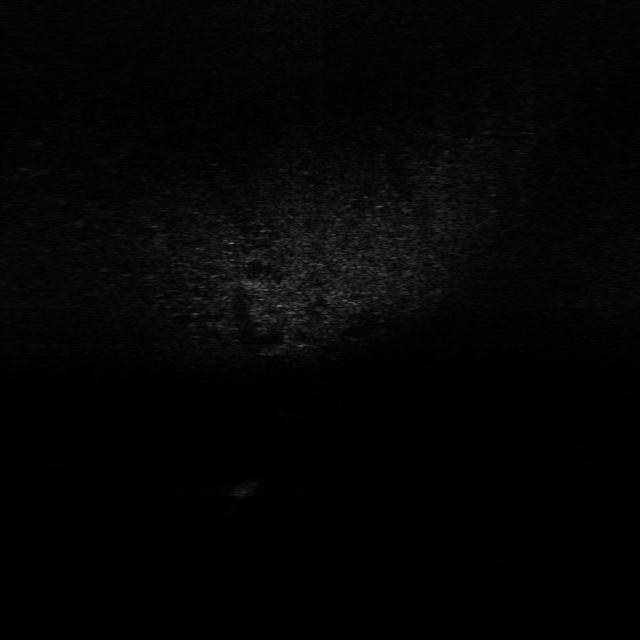cylinder: (232, 476, 259, 498)
